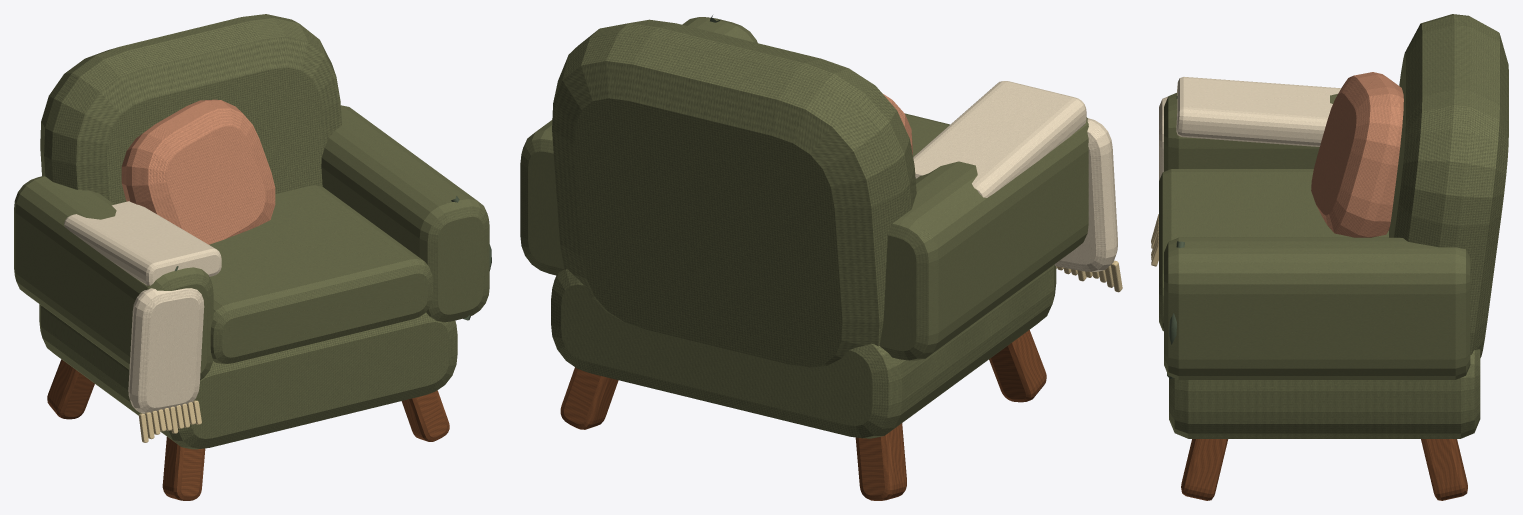
Rendered from armchair.glb.
3 views of the same model, side by side, from view 1: azimuth 30°, elevation 25°; view 2: azimuth 150°, elevation 25°; view 3: azimuth 270°, elevation 25° (orthographic). The views are drawn at different scales.
Parts seen in each view (by area): view 1: armchair; view 2: armchair; view 3: armchair.
Boxes of the visible parts, left/top/right/bottom form: armchair: left=14, top=14, right=491, bottom=500; armchair: left=520, top=15, right=1122, bottom=500; armchair: left=1151, top=14, right=1508, bottom=500.
Size of the model in its own units: 0.9131 by 0.8424 by 0.7245.
Materials: 6 (6 with a texture image).
